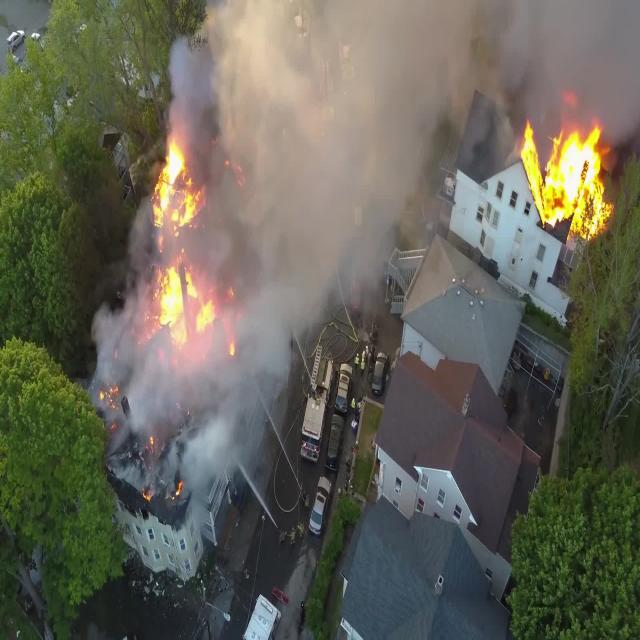Fire: (150, 135, 222, 363), (523, 120, 604, 233)
Smoke: (92, 0, 640, 467)
